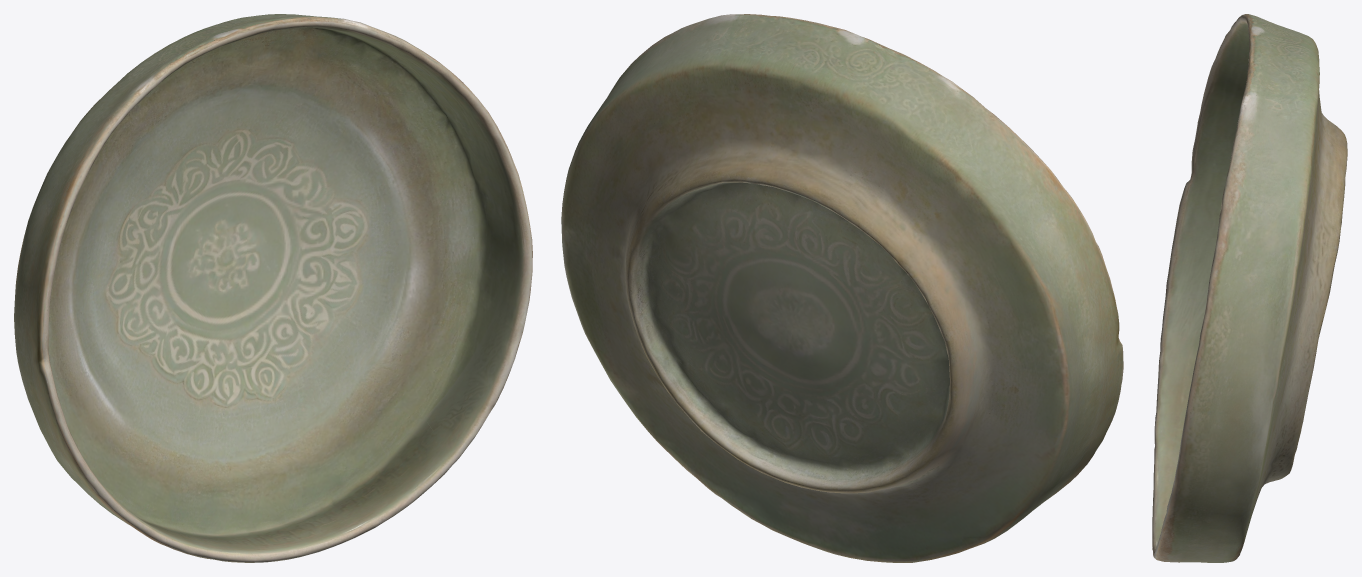
Rendered from artifact.glb.
3 views of the same model, side by side, from view 1: azimuth 30°, elevation 25°; view 2: azimuth 150°, elevation 25°; view 3: azimuth 270°, elevation 25° (orthographic). The views are drawn at different scales.
Bounding box in the file's own units: 2 × 1.96 × 0.6952.
Materials: 1 (1 with a texture image).
